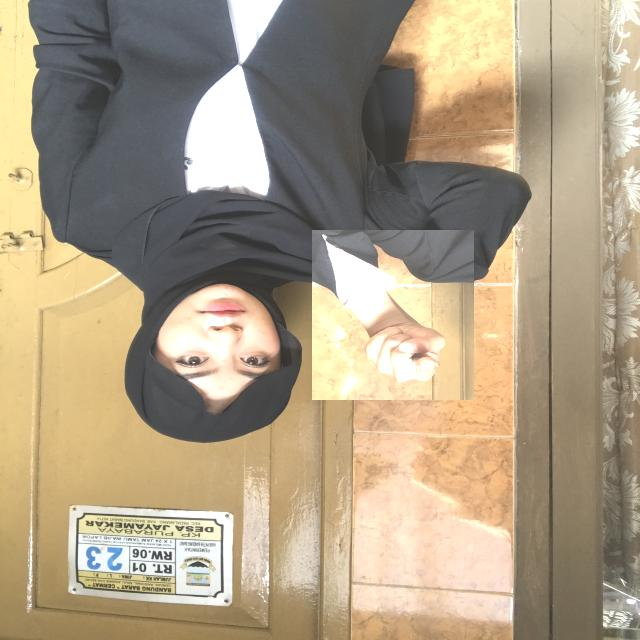kamu: (312, 230, 474, 400)
